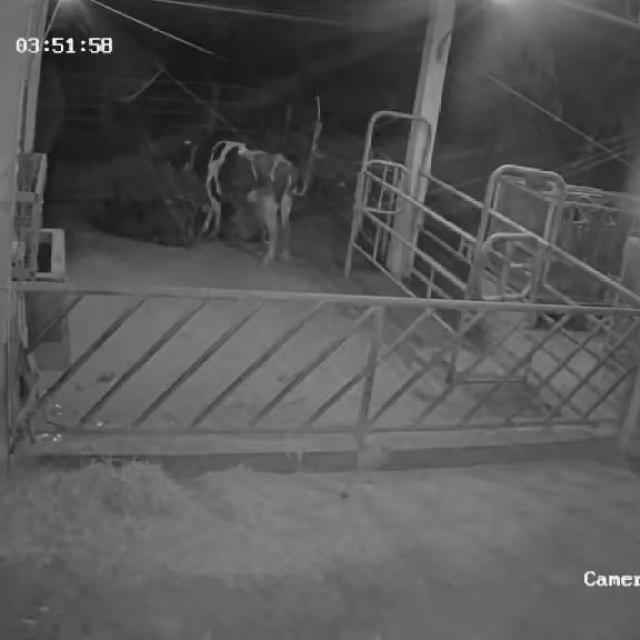lying down: (89, 180, 200, 250)
standing: (170, 135, 292, 267)
